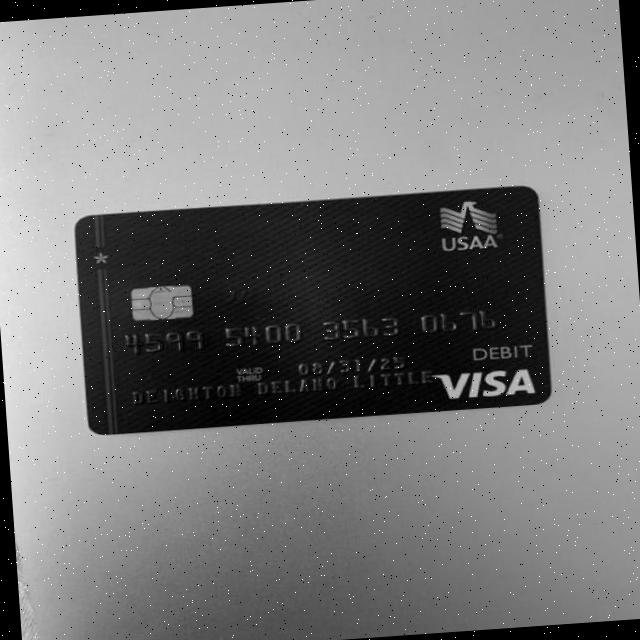card: (72, 182, 554, 434)
